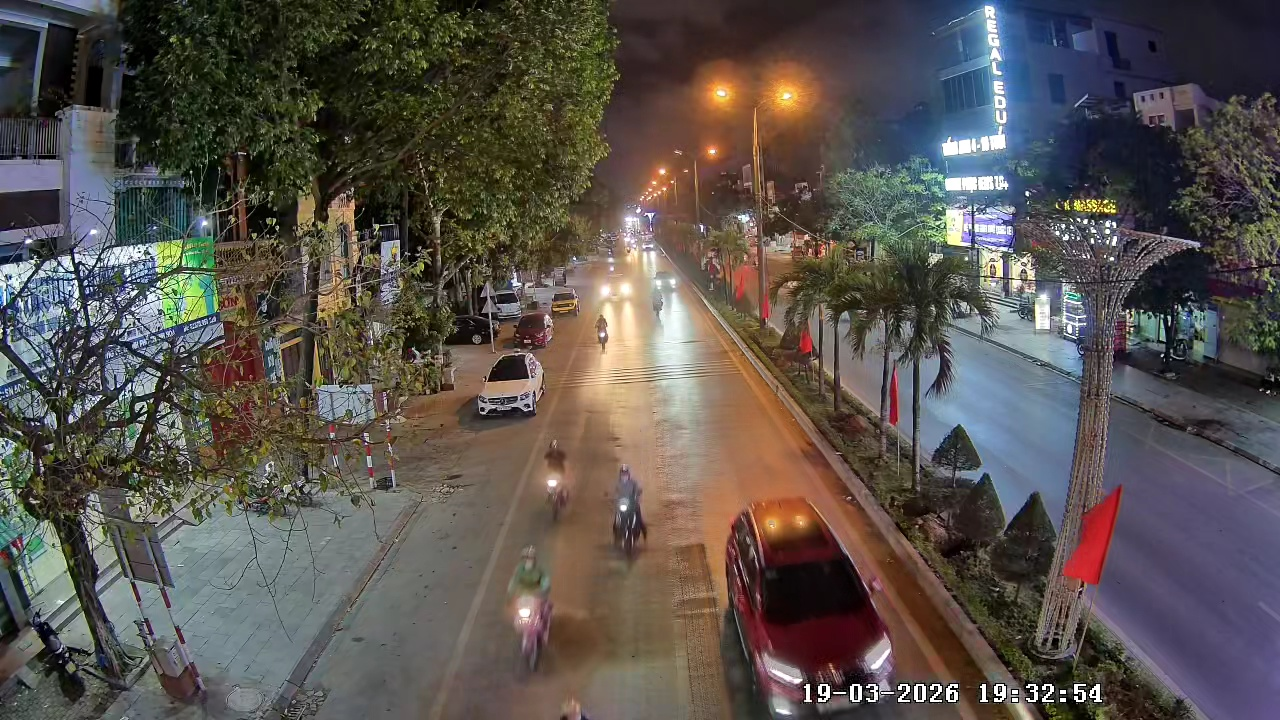car: (722, 497, 899, 719), (475, 349, 548, 418), (514, 312, 552, 348), (552, 288, 578, 316)
motorbike: (504, 545, 557, 672), (607, 464, 650, 559), (540, 437, 573, 522), (645, 284, 670, 319), (596, 310, 611, 345)
